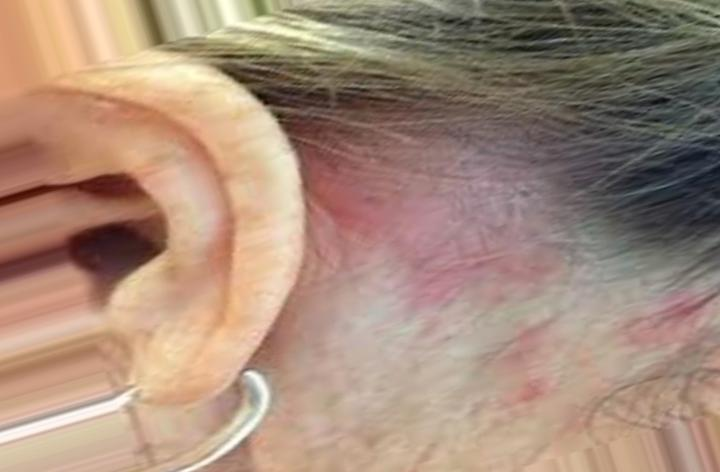Contact Dermatitis: (315, 81, 645, 389)
